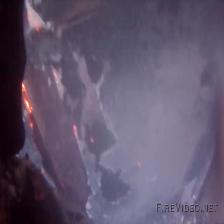smoke: (25, 4, 164, 218)
